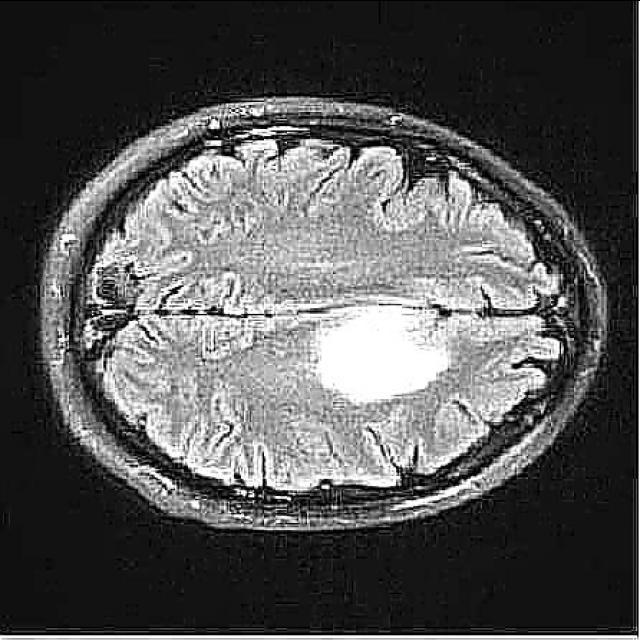tumor: (314, 299, 456, 404)
